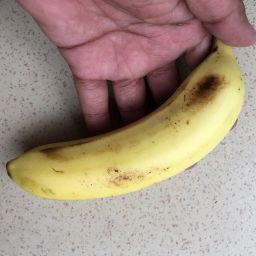Banana Ripe: (18, 47, 252, 256)
